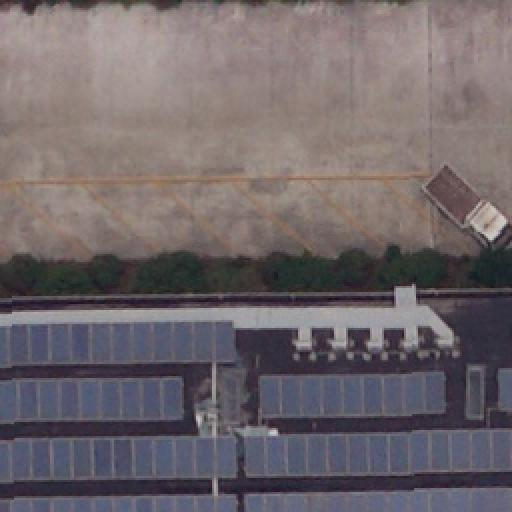solar-panel: (241, 427, 511, 477), (0, 320, 236, 368), (1, 437, 239, 483), (257, 368, 447, 420), (0, 377, 184, 423), (244, 488, 512, 512), (1, 496, 239, 512), (496, 368, 512, 412)
